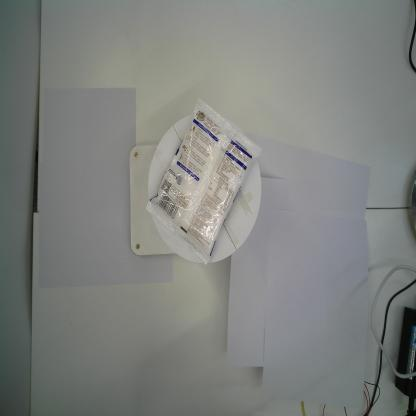Seasoner: (147, 94, 262, 265)
